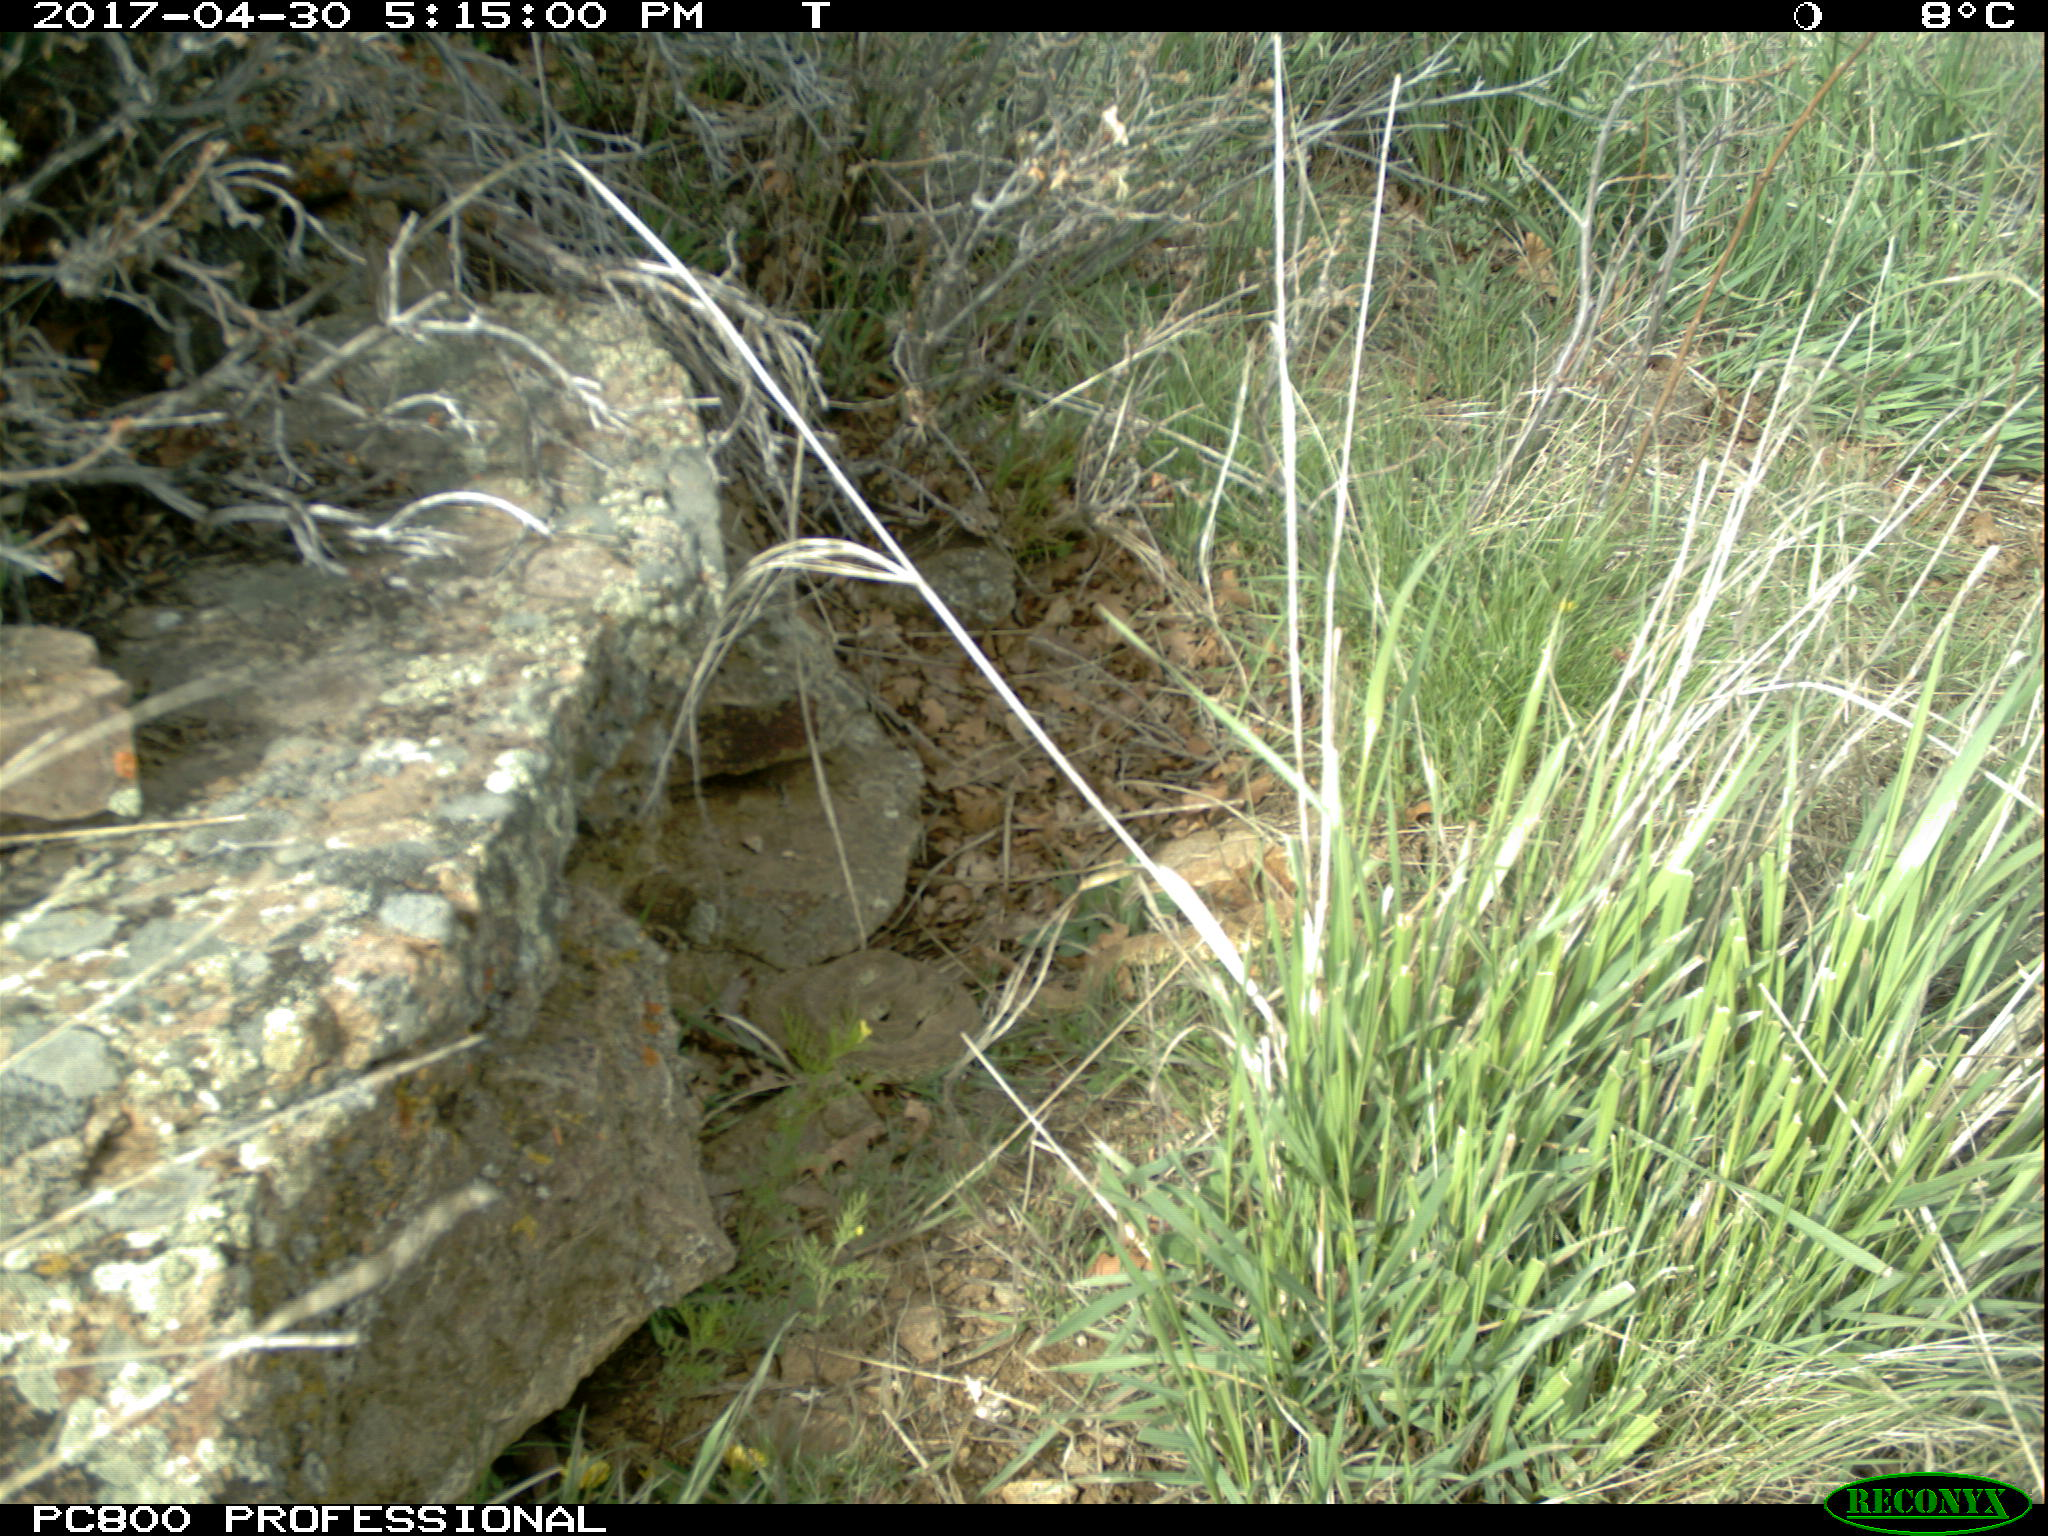snake: (745, 949, 993, 1078)
